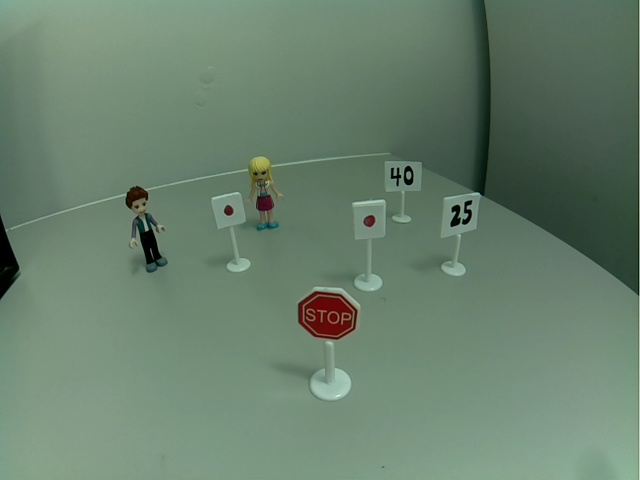people: (118, 182, 174, 274), (244, 155, 288, 233)
red light: (352, 199, 388, 241), (209, 193, 246, 229)
speed 25: (441, 193, 479, 237)
speed 40: (383, 159, 423, 194)
stop: (295, 282, 358, 344)
